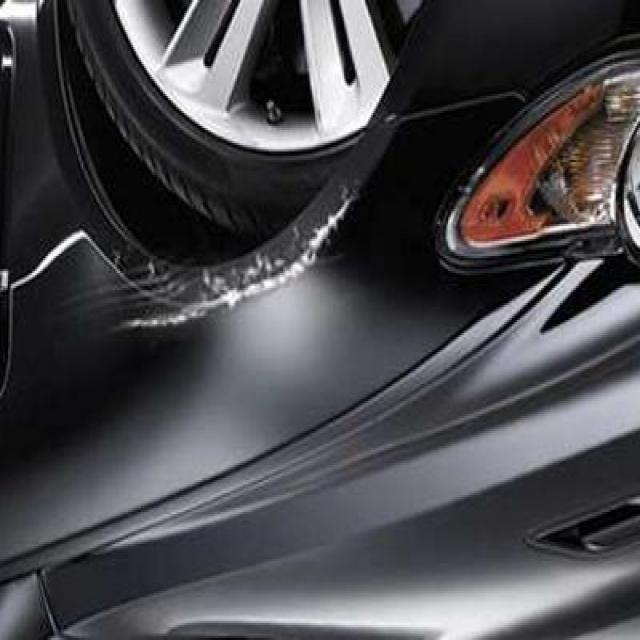scratch: (83, 172, 389, 366)
